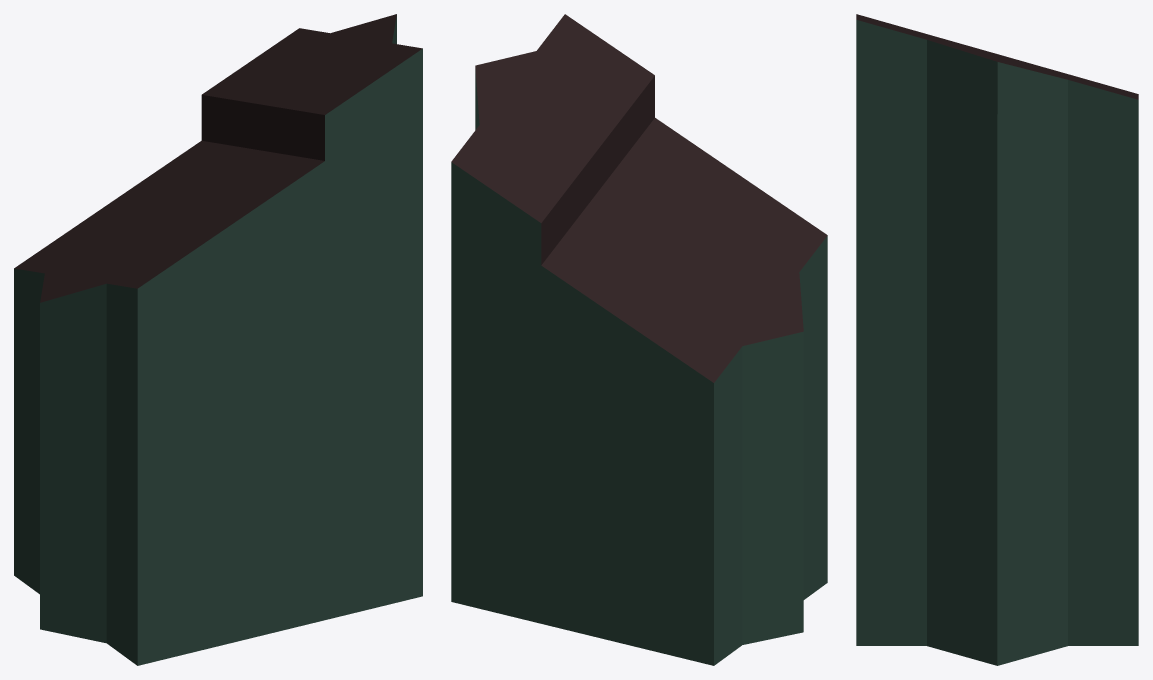
The model's file is SM_PillarMidBroke_01.fbx.
3 renders of one model, left to right at view 1: azimuth 30°, elevation 25°; view 2: azimuth 150°, elevation 25°; view 3: azimuth 270°, elevation 25°, orthographic. The views are drawn at different scales.
Visible parts, largest first — view 1: SM_PillarMidBroke_01; view 2: SM_PillarMidBroke_01; view 3: SM_PillarMidBroke_01.
Boxes of the visible parts, box(x1,y1,x2,y2) form: SM_PillarMidBroke_01: box(14, 14, 422, 665); SM_PillarMidBroke_01: box(451, 14, 827, 665); SM_PillarMidBroke_01: box(856, 14, 1138, 665).
Bounding box in the file's own units: 250 × 367 × 150.
1 material, 1 textured.
